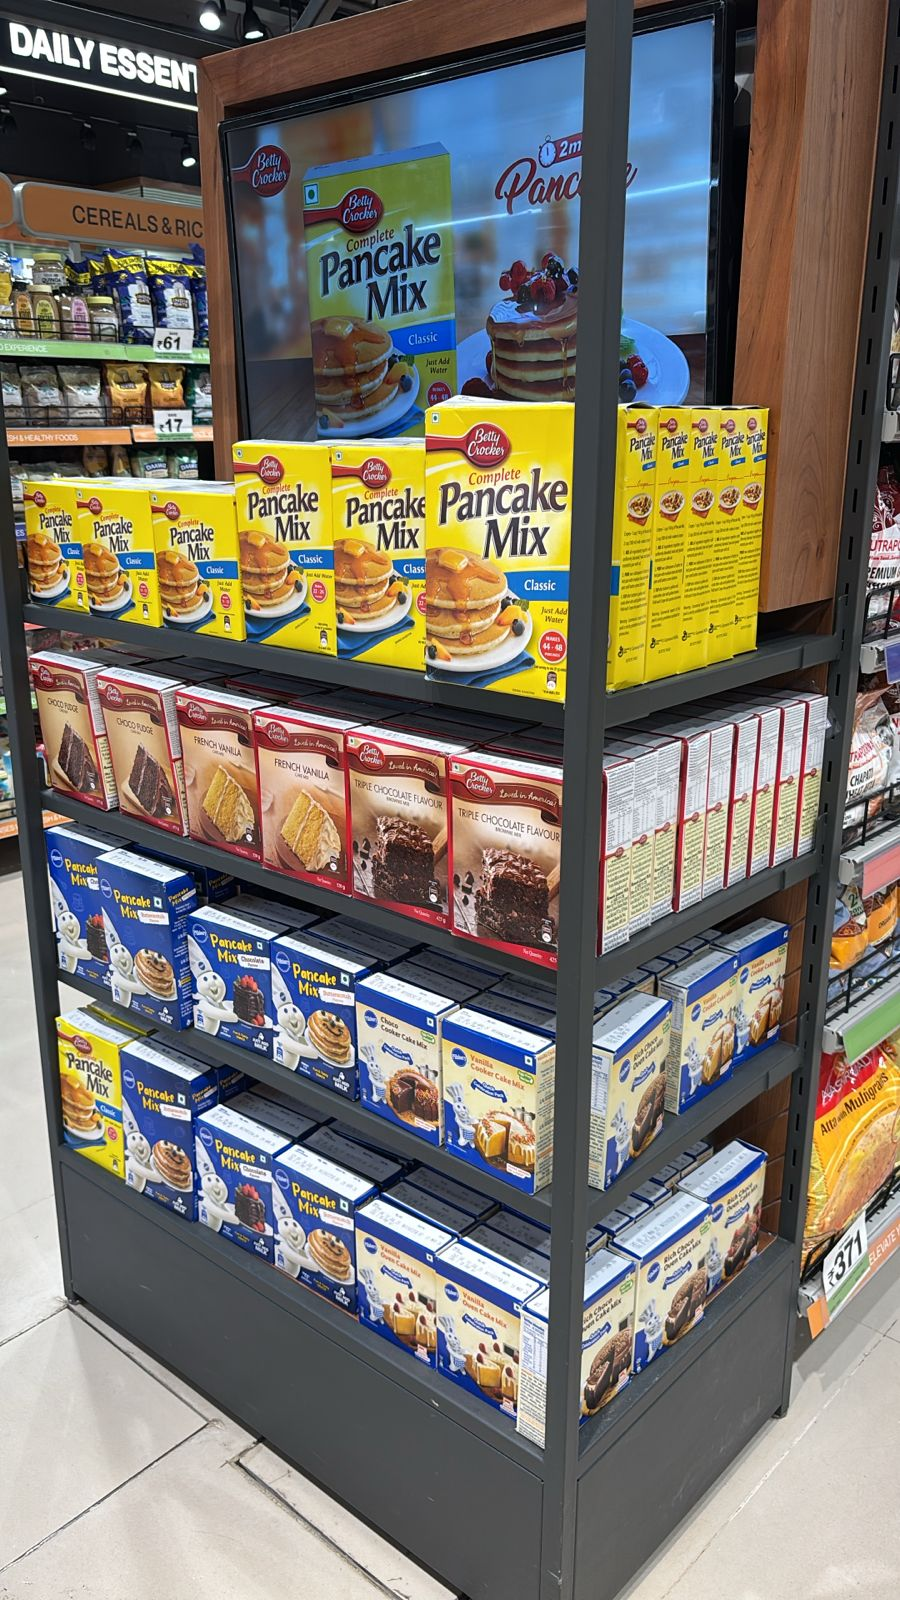Betty Crocker Pancake Mix: (425, 395, 578, 716), (324, 436, 445, 670), (226, 440, 342, 667), (148, 478, 249, 646), (78, 473, 158, 642), (54, 1012, 124, 1185), (644, 398, 684, 686), (680, 402, 720, 686), (620, 399, 655, 696), (20, 475, 84, 621), (732, 404, 760, 662), (714, 402, 740, 668)
